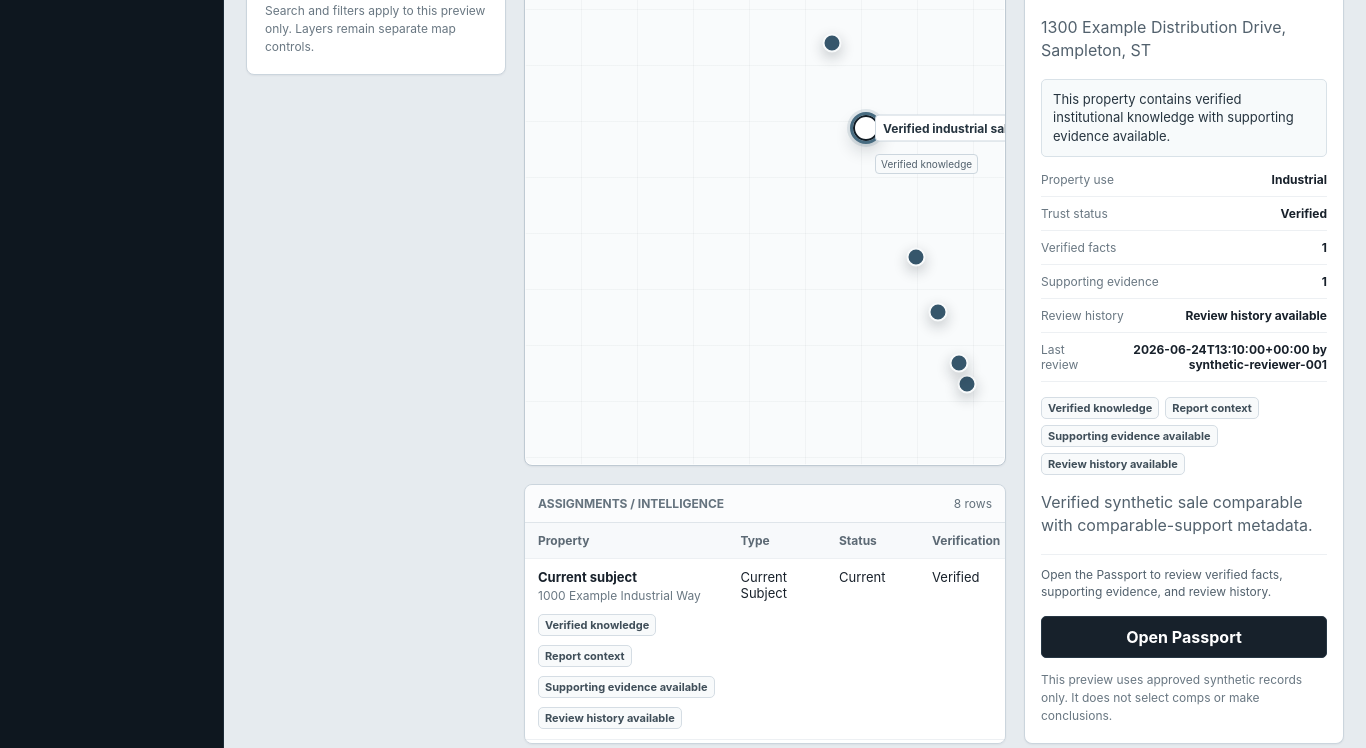
it: IntelligenceWorkspacePreview › opens a passport drawer from the selected property without losing map and table context
The image size is (1366, 748).
(page scrolled)
Click the button named "Select Current subject".
click(967, 384)  # box [957, 374, 976, 394]
(page scrolled)
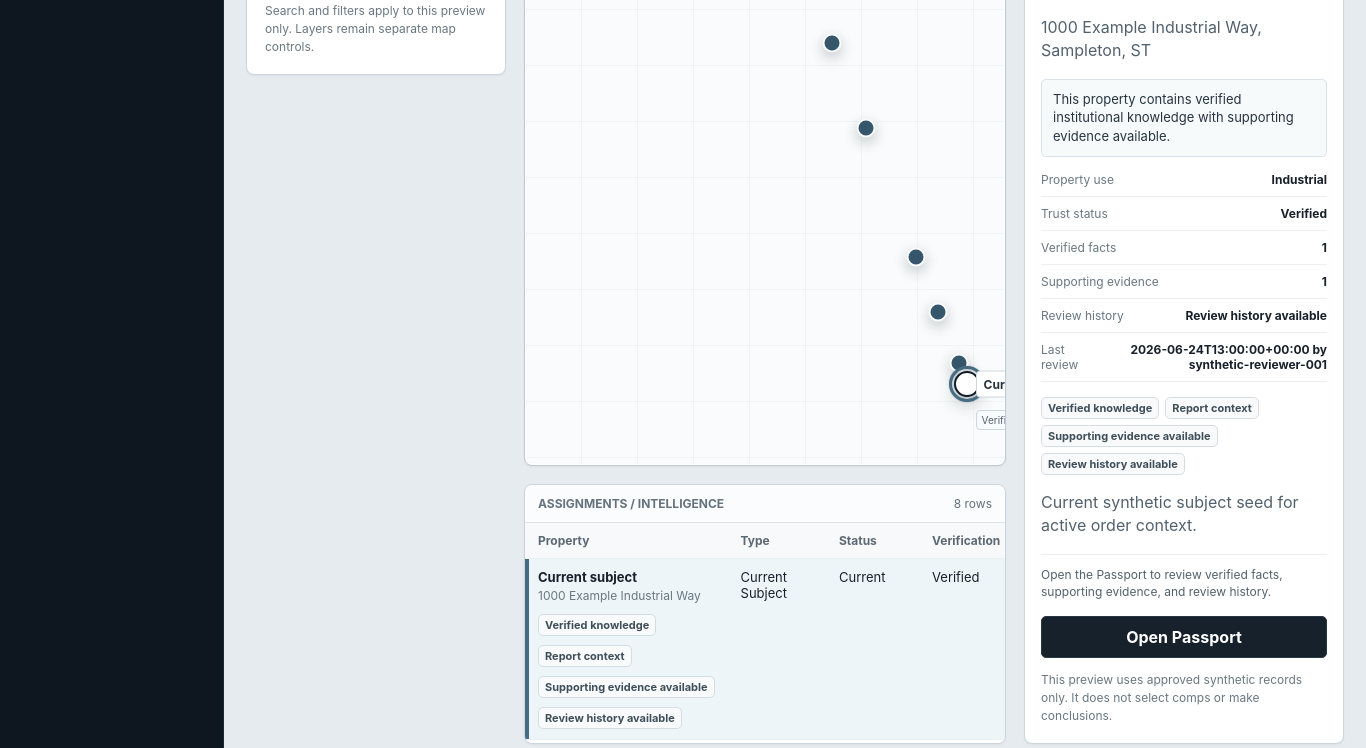
Click the button "Open Passport".
click(1184, 637)  # box [1041, 616, 1327, 658]
(page scrolled)
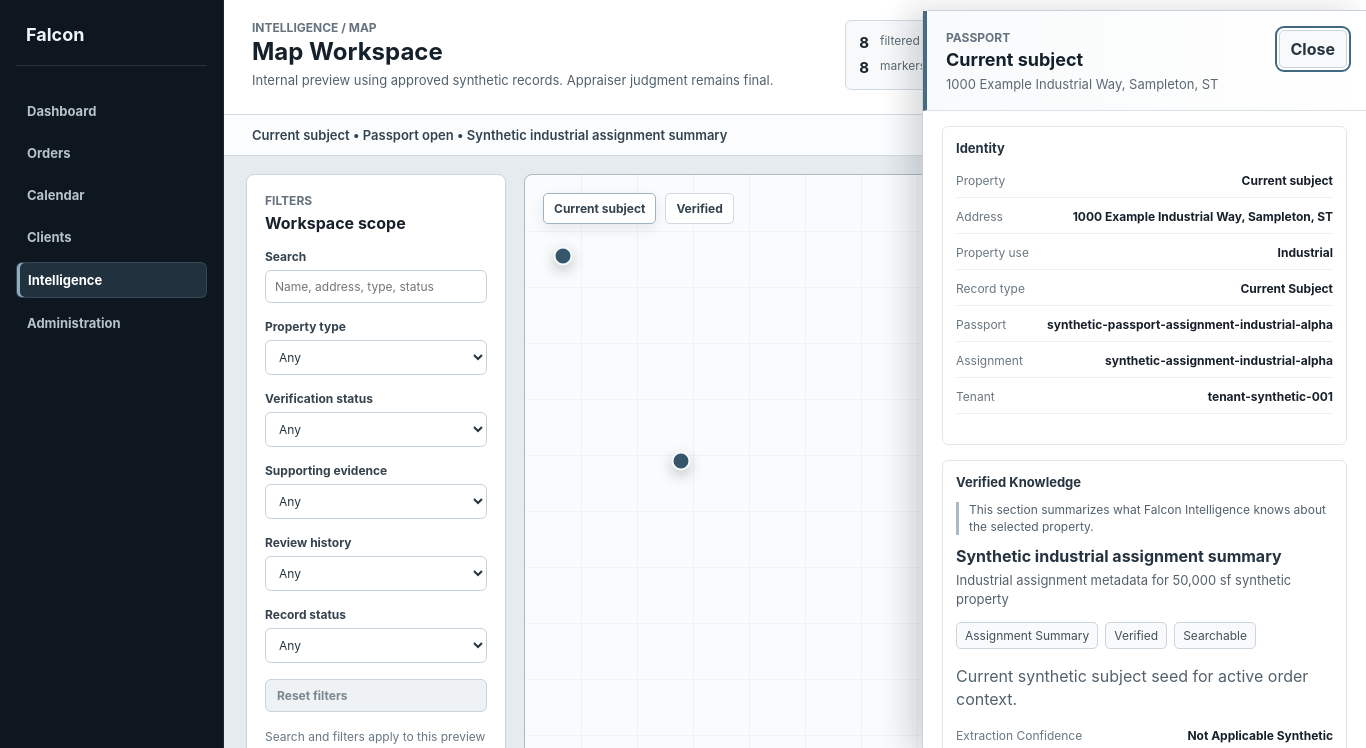
Expected: the heading "Current subject" is shown, [946, 49, 1083, 70]
Expected: the text "synthetic-passport-assignment-industrial-alpha" is shown, [1047, 317, 1333, 332]
Expected: the text "Synthetic industrial assignment summary" is shown, [956, 546, 1333, 566]
